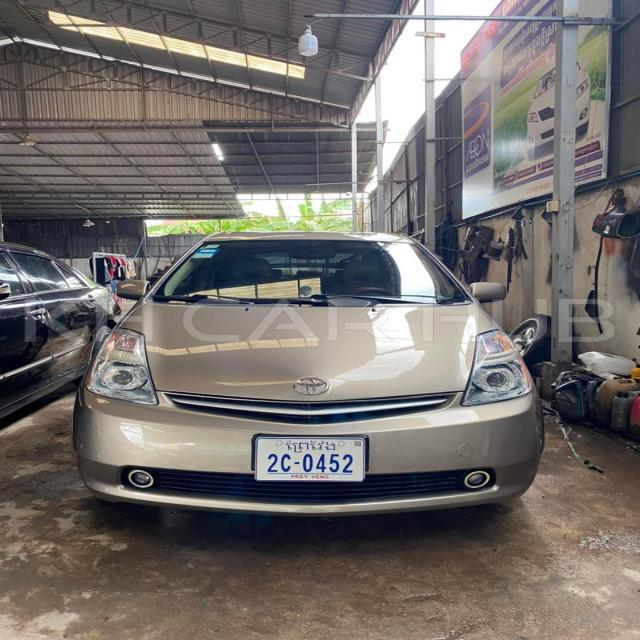Prey_Veng: (285, 440, 336, 453)
